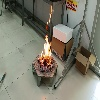fire: (39, 34, 52, 67), (46, 4, 54, 30)
